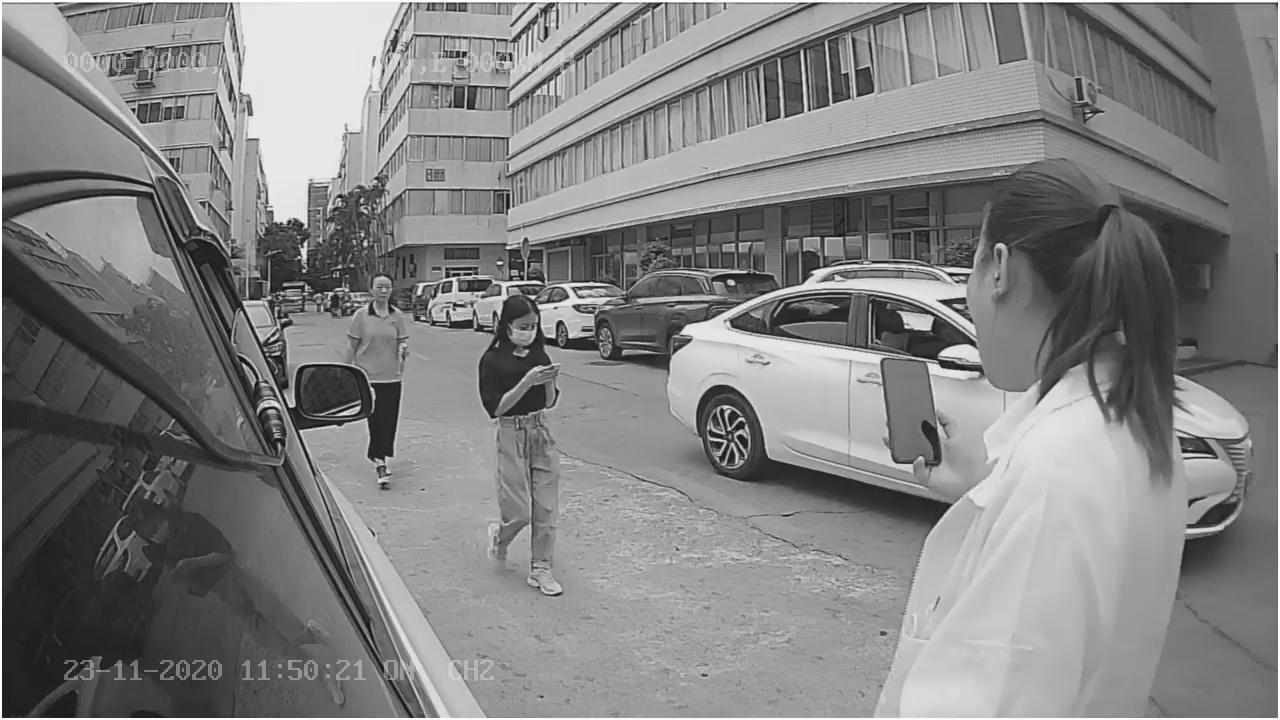person: (476, 290, 570, 600)
